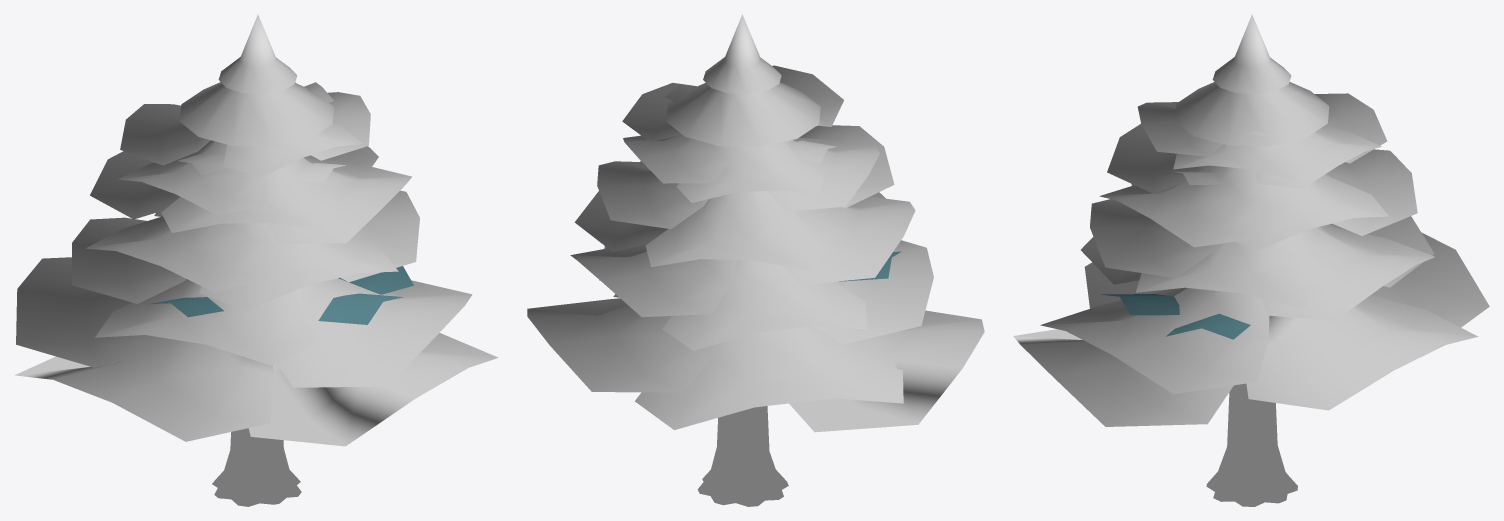
File: pine-viridian.glb
3 views of the same model, side by side, from view 1: azimuth 30°, elevation 25°; view 2: azimuth 150°, elevation 25°; view 3: azimuth 270°, elevation 25° (orthographic).
Visible parts, largest first — view 1: pine-viridian; view 2: pine-viridian; view 3: pine-viridian.
Boxes of the visible parts, <box> form: pine-viridian: <box>15,14,498,506</box>; pine-viridian: <box>527,14,984,506</box>; pine-viridian: <box>1013,14,1489,506</box>.
Size of the model in its own units: 4.47 by 5.2 by 4.74.
